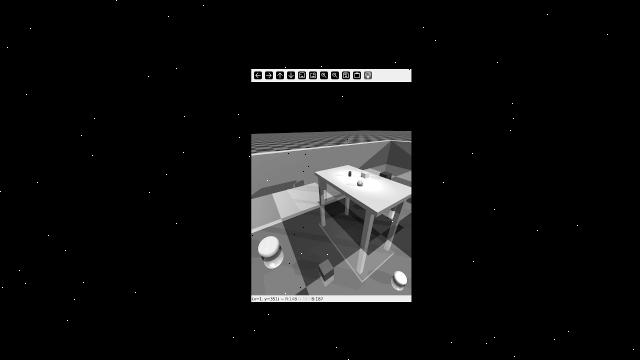cilindro: (322, 172, 327, 192), (346, 168, 354, 179)
cuadrado: (316, 256, 336, 280), (381, 168, 394, 185), (360, 170, 370, 178)
esfera: (260, 232, 280, 260), (388, 266, 411, 290), (356, 180, 364, 188)
